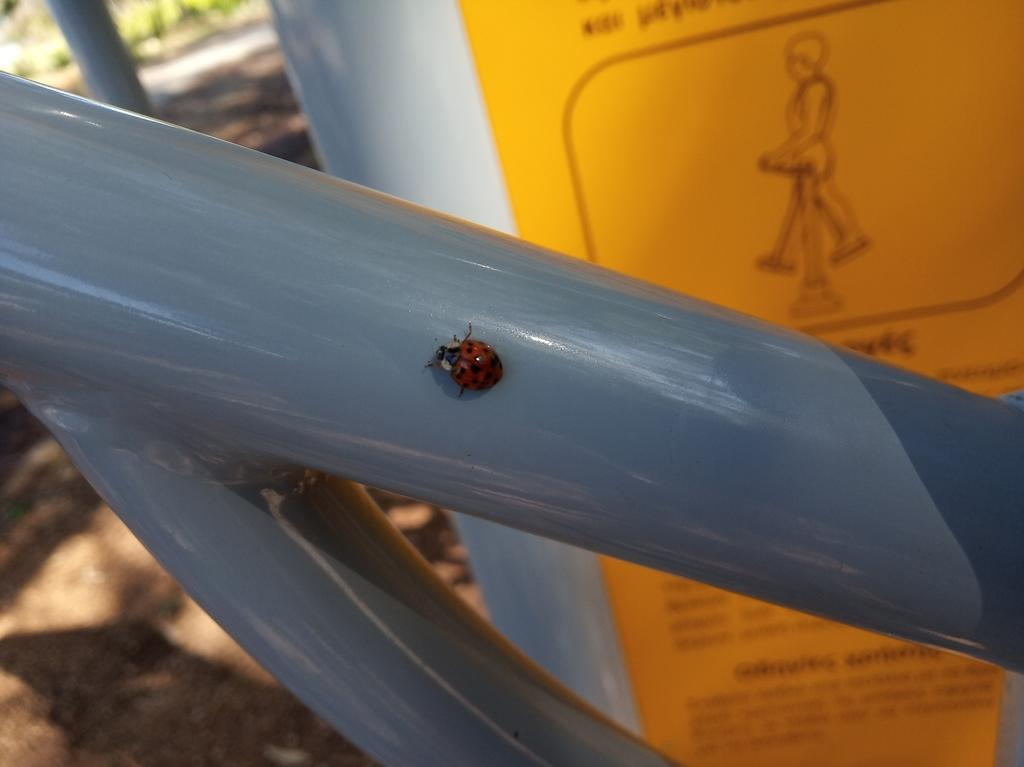ladybug: (423, 321, 507, 405)
